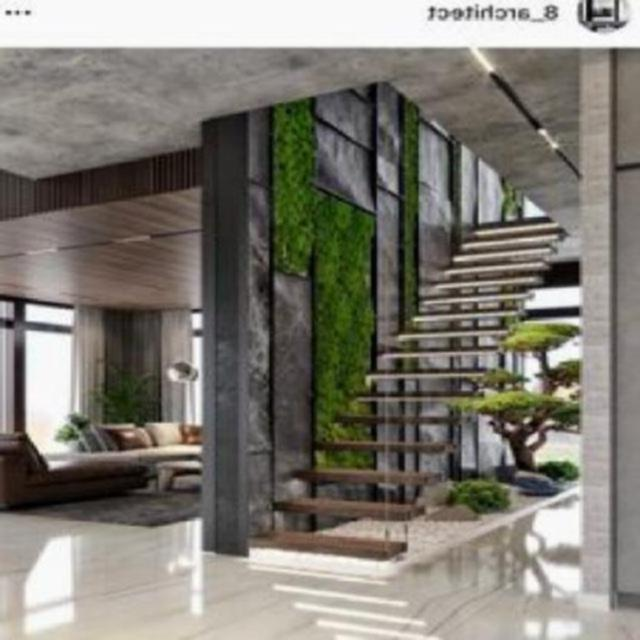stair: (234, 149, 612, 562)
